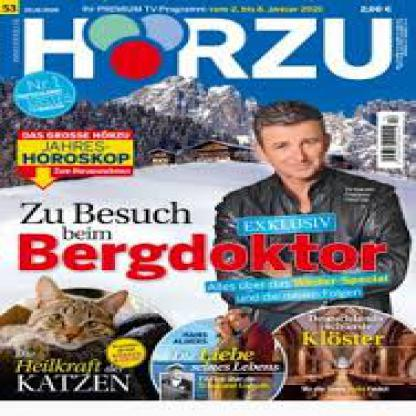paper: (0, 0, 415, 401)
